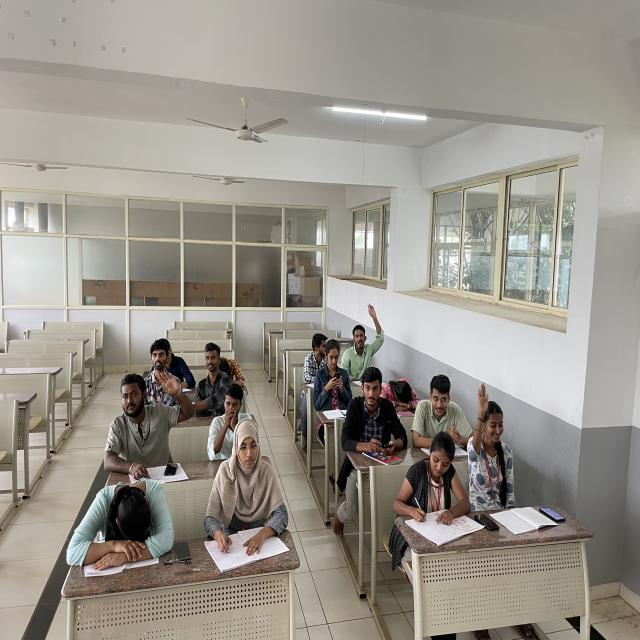Hand Rising: (100, 364, 193, 482), (465, 380, 524, 518), (341, 296, 387, 373)
Sleeping: (62, 475, 185, 579), (381, 365, 423, 414)
Using Phone: (338, 365, 409, 457), (312, 338, 352, 408)
Writing: (194, 418, 292, 570), (392, 426, 480, 548)
